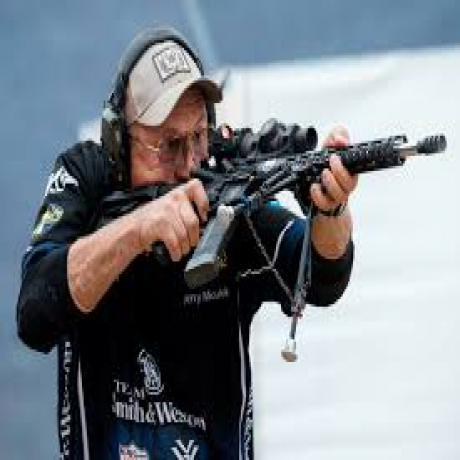Guns: (88, 124, 447, 286)
